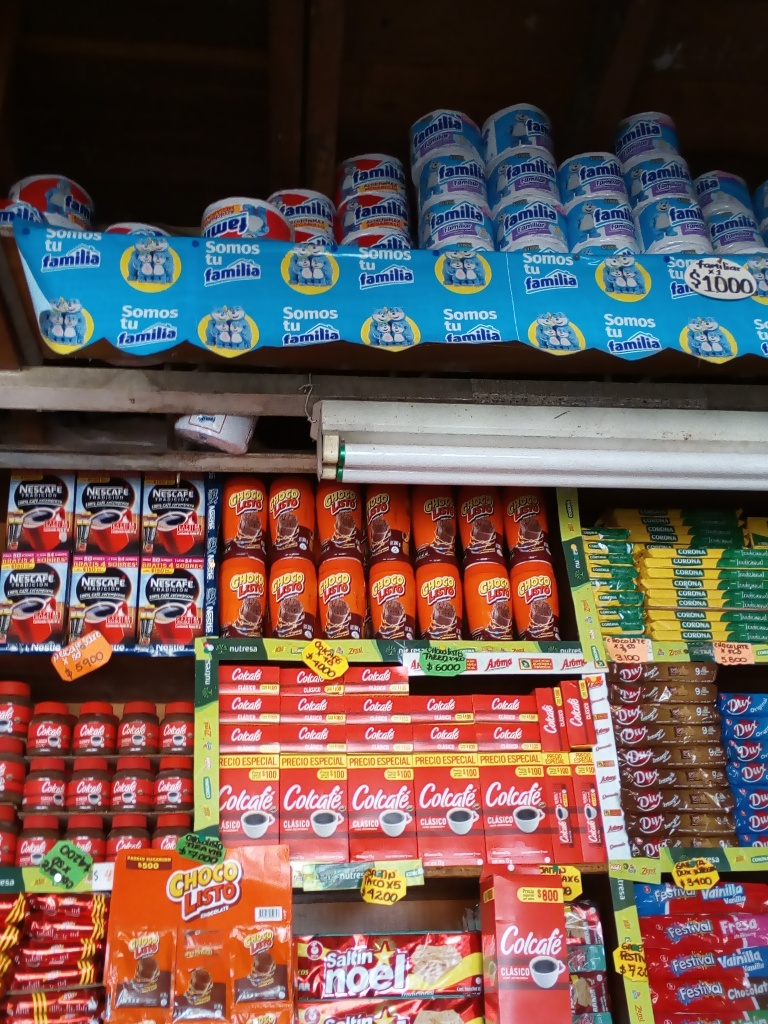COL0170103SOB02000: (115, 926, 173, 1024)
